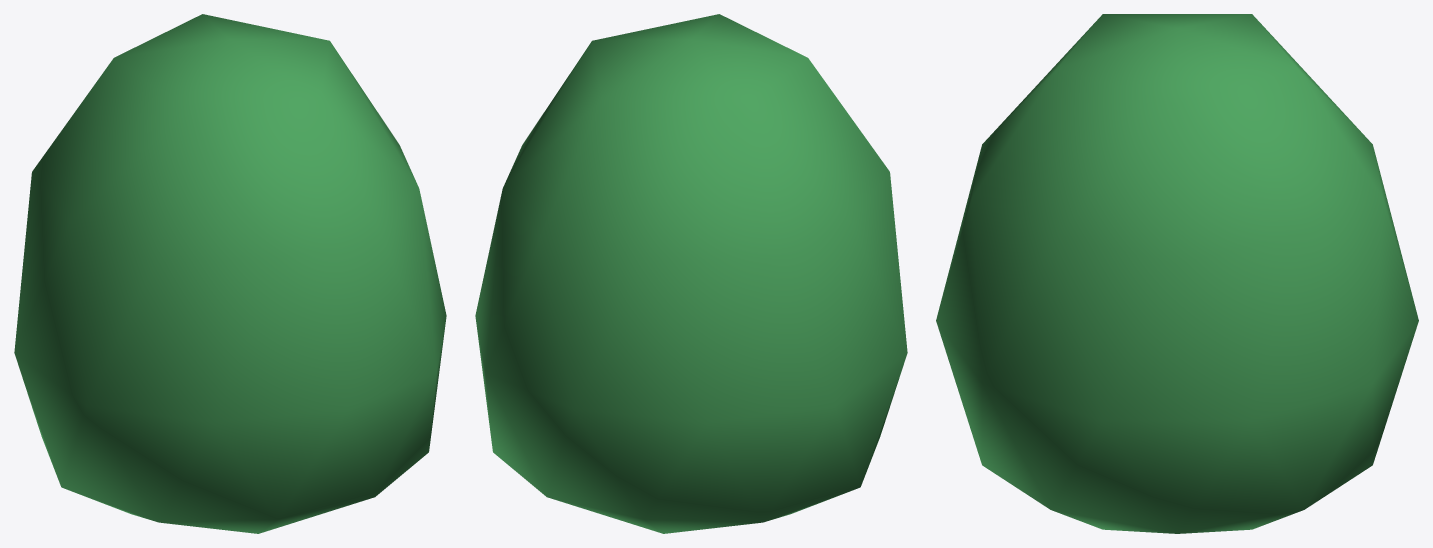
File: Bush3.fbx
The picture shows the model from 3 angles, left to right: view 1: azimuth 30°, elevation 25°; view 2: azimuth 150°, elevation 25°; view 3: azimuth 270°, elevation 25°; orthographic projection. The views are drawn at different scales.
Visible parts, largest first — view 1: Bush_3; view 2: Bush_3; view 3: Bush_3.
Boxes of the visible parts, box(x1,y1,x2,y2) form: Bush_3: box(14, 14, 446, 533); Bush_3: box(475, 14, 907, 533); Bush_3: box(936, 14, 1418, 533).
Bounding box in the file's own units: 62.76 × 75.04 × 70.91.
